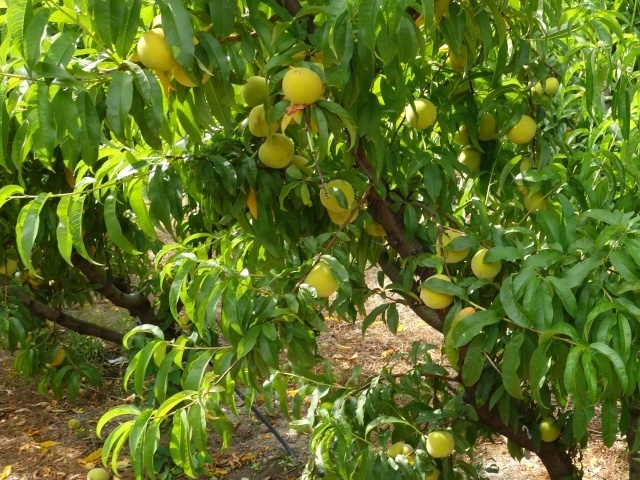peach: (132, 25, 179, 76), (298, 252, 342, 299), (277, 65, 325, 108), (163, 53, 217, 90), (255, 132, 297, 173), (429, 225, 473, 264), (242, 103, 287, 141), (416, 271, 457, 312), (466, 245, 506, 283), (238, 73, 277, 111), (319, 174, 357, 213), (402, 97, 441, 134), (421, 424, 460, 461), (503, 109, 538, 148), (325, 198, 362, 231), (518, 187, 549, 220), (469, 110, 500, 142), (284, 151, 316, 182), (454, 145, 486, 175), (534, 411, 563, 444), (360, 215, 389, 241), (540, 74, 562, 98)
